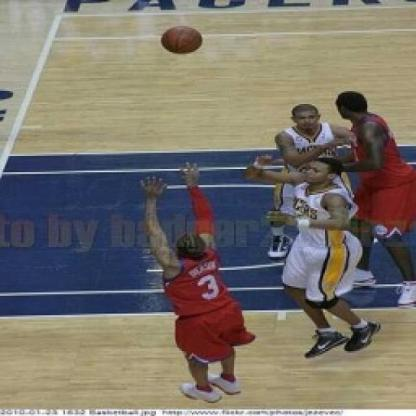basketball: (159, 21, 205, 60)
